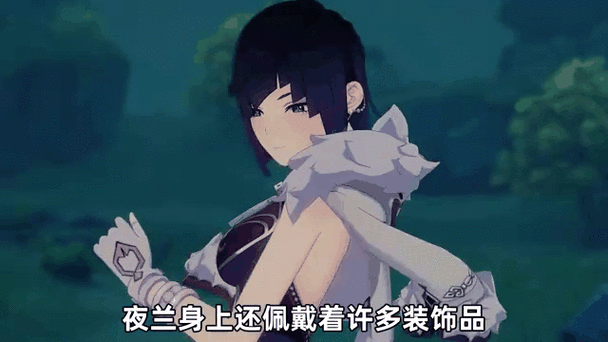夜兰: (90, 5, 403, 342)
